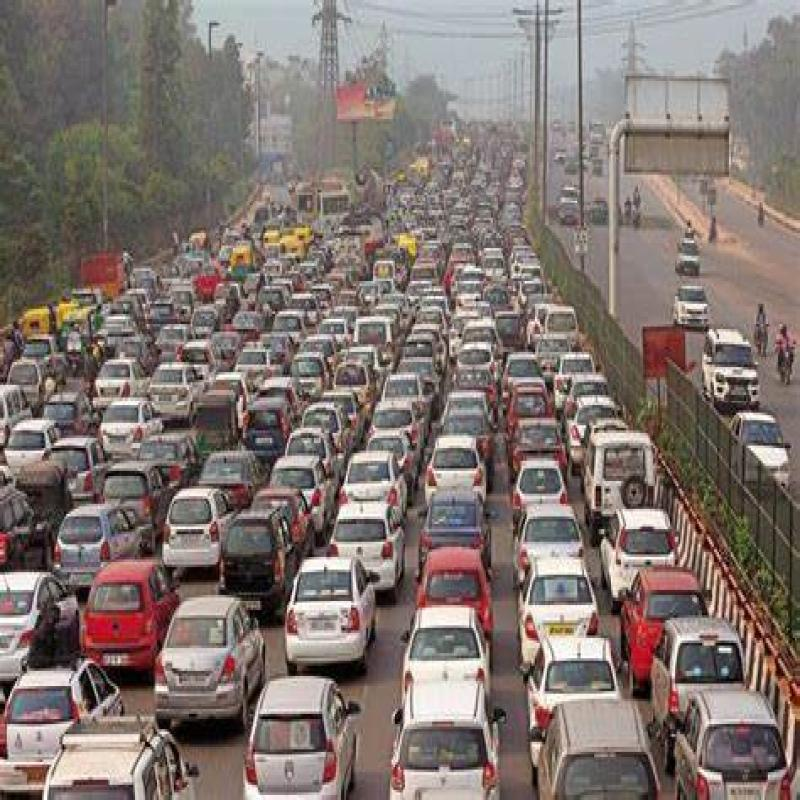car: (151, 583, 260, 725), (245, 668, 358, 800), (533, 698, 658, 800), (88, 564, 178, 680), (692, 692, 781, 800), (394, 706, 489, 800), (296, 564, 371, 668), (666, 631, 742, 733), (611, 488, 684, 594), (162, 469, 231, 576), (401, 617, 493, 697), (531, 640, 625, 716), (700, 319, 764, 424), (526, 574, 607, 647), (332, 507, 408, 578), (418, 551, 494, 621), (268, 446, 334, 519), (101, 393, 156, 463), (279, 401, 331, 466), (360, 401, 424, 452), (435, 450, 483, 502), (670, 287, 716, 337)
